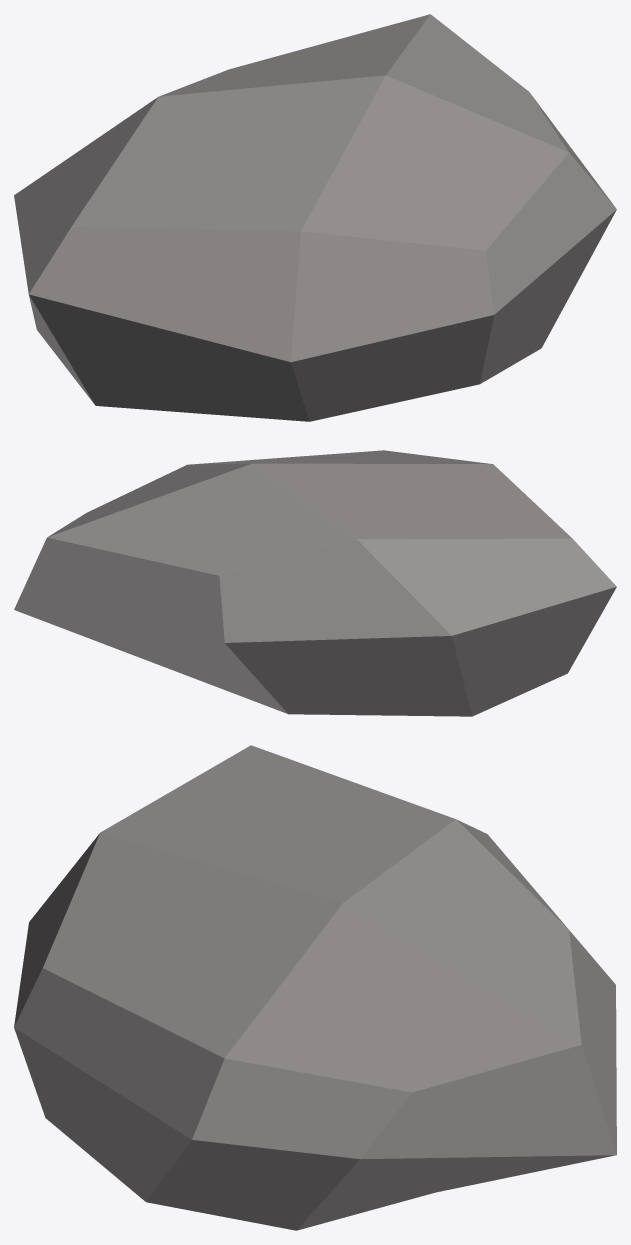
File: stone_2.glb
The picture shows the model from 3 angles, top to bottom: view 1: azimuth 30°, elevation 25°; view 2: azimuth 150°, elevation 25°; view 3: azimuth 270°, elevation 25°; orthographic projection. The views are drawn at different scales.
Parts seen in each view (by area): view 1: stone_2; view 2: stone_2; view 3: stone_2.
Boxes of the visible parts, x1,y1,x2,y2 form: stone_2: (14, 14, 616, 421); stone_2: (14, 450, 616, 716); stone_2: (14, 745, 616, 1230).
Size of the model in its own units: 0.2465 by 0.0976 by 0.1896.
1 material, 1 textured.
